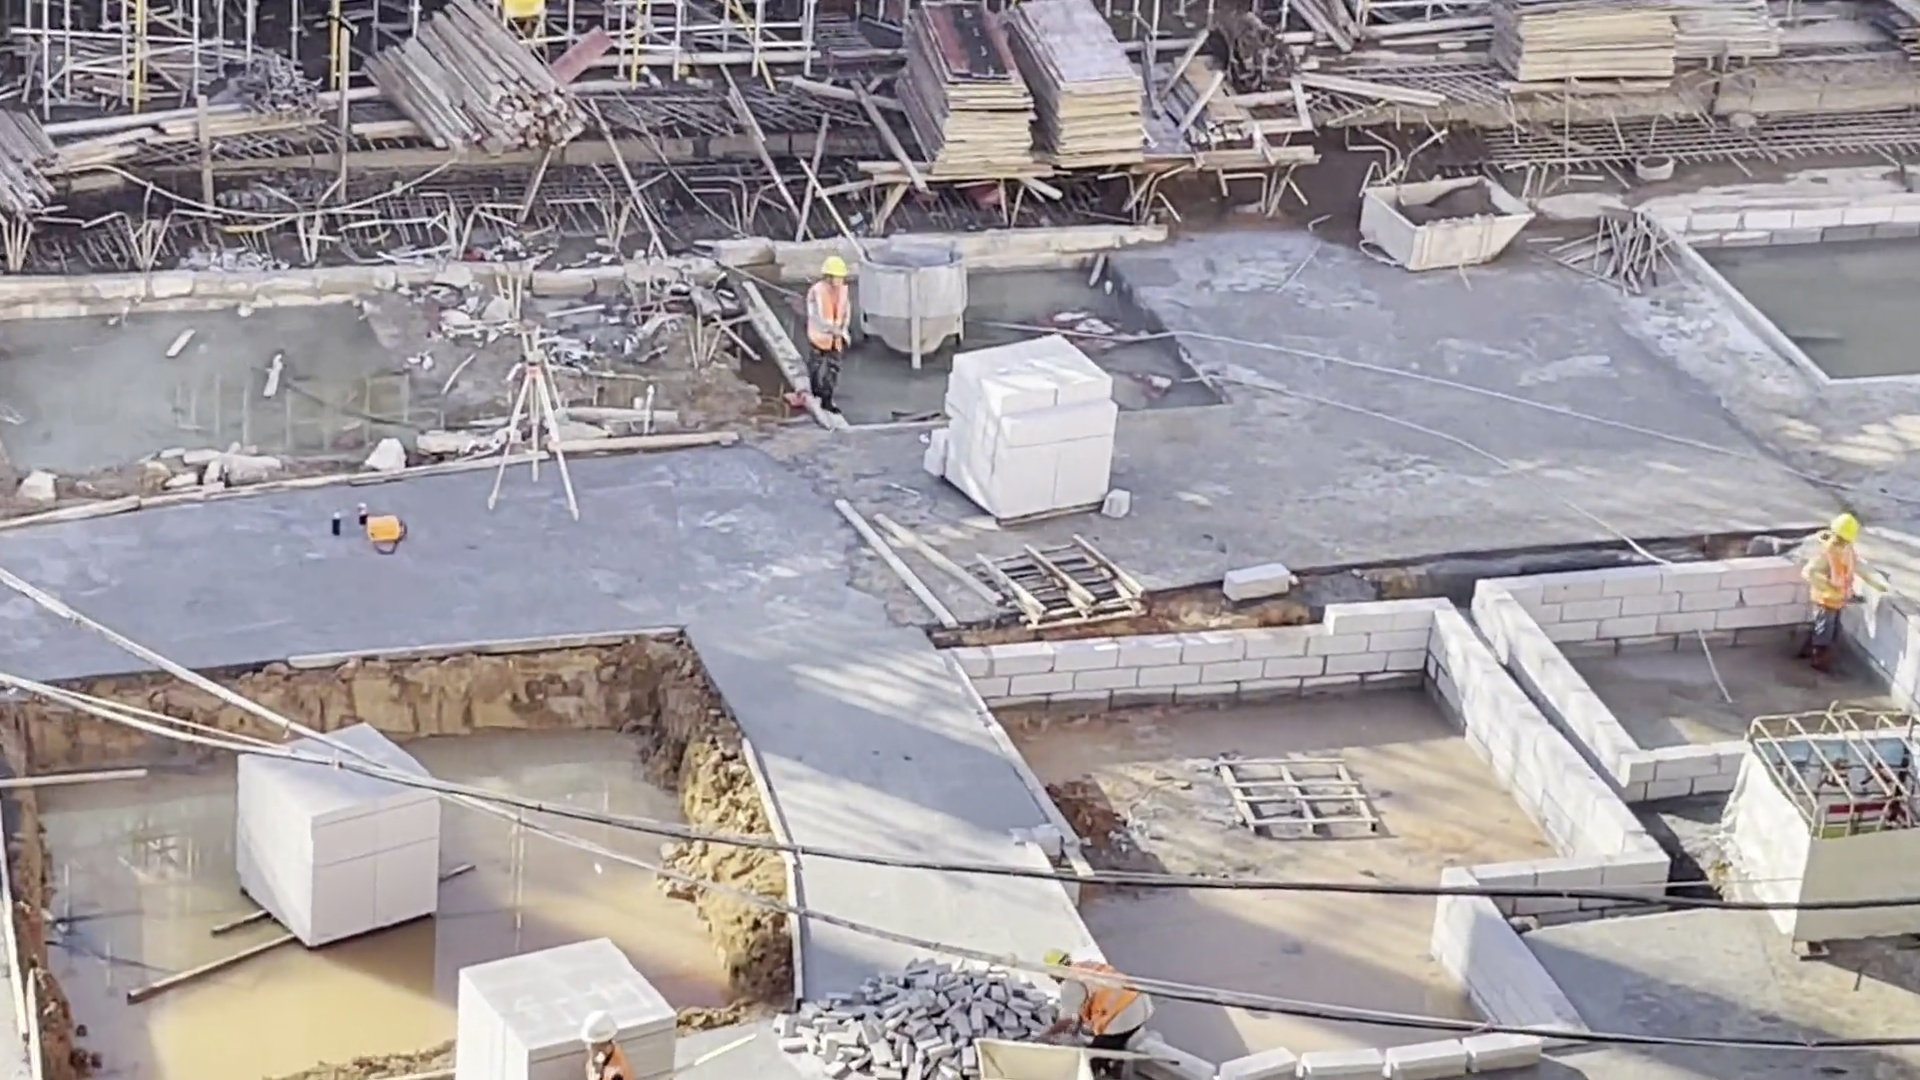board: (886, 8, 1045, 186), (1006, 6, 1156, 174), (1486, 2, 1682, 94)
brick: (932, 332, 1123, 535), (230, 785, 449, 952), (454, 957, 567, 1080)
handcart: (984, 1038, 1190, 1080)
helmet: (582, 1011, 621, 1046), (1826, 511, 1864, 543), (817, 253, 851, 282)
hopper: (1354, 175, 1545, 276), (859, 237, 973, 375)
person: (1032, 942, 1159, 1049), (1797, 511, 1870, 675), (800, 250, 858, 415), (575, 1006, 639, 1080)
vest: (1063, 957, 1144, 1032), (1811, 541, 1858, 612), (810, 282, 854, 350), (582, 1054, 630, 1080)
wood: (363, 4, 595, 154), (1, 106, 70, 235)
